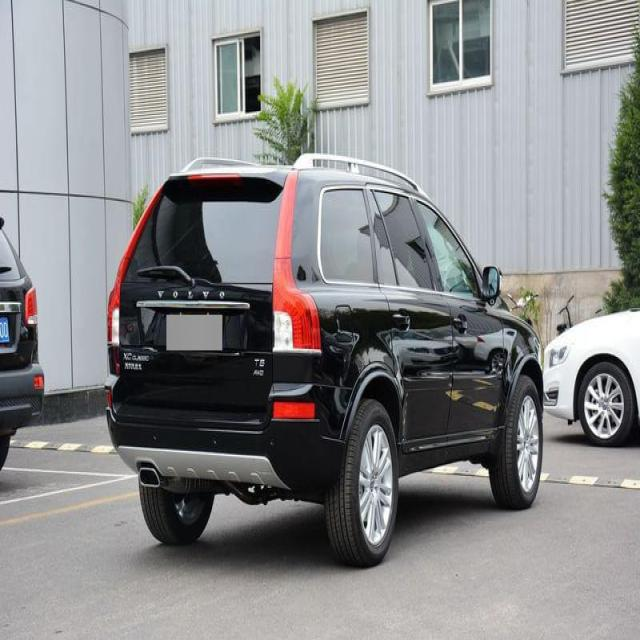back_glass: (122, 175, 286, 283)
back_left_side_light: (103, 253, 132, 349)
back_right_side_light: (271, 254, 324, 356)
door: (361, 182, 454, 452)
front_right_side_door: (411, 189, 506, 440)
front_right_side_mirror: (481, 262, 503, 305)
rear_bumper: (104, 373, 350, 498)
wheel: (327, 403, 398, 562), (489, 377, 544, 505), (137, 475, 214, 538)
